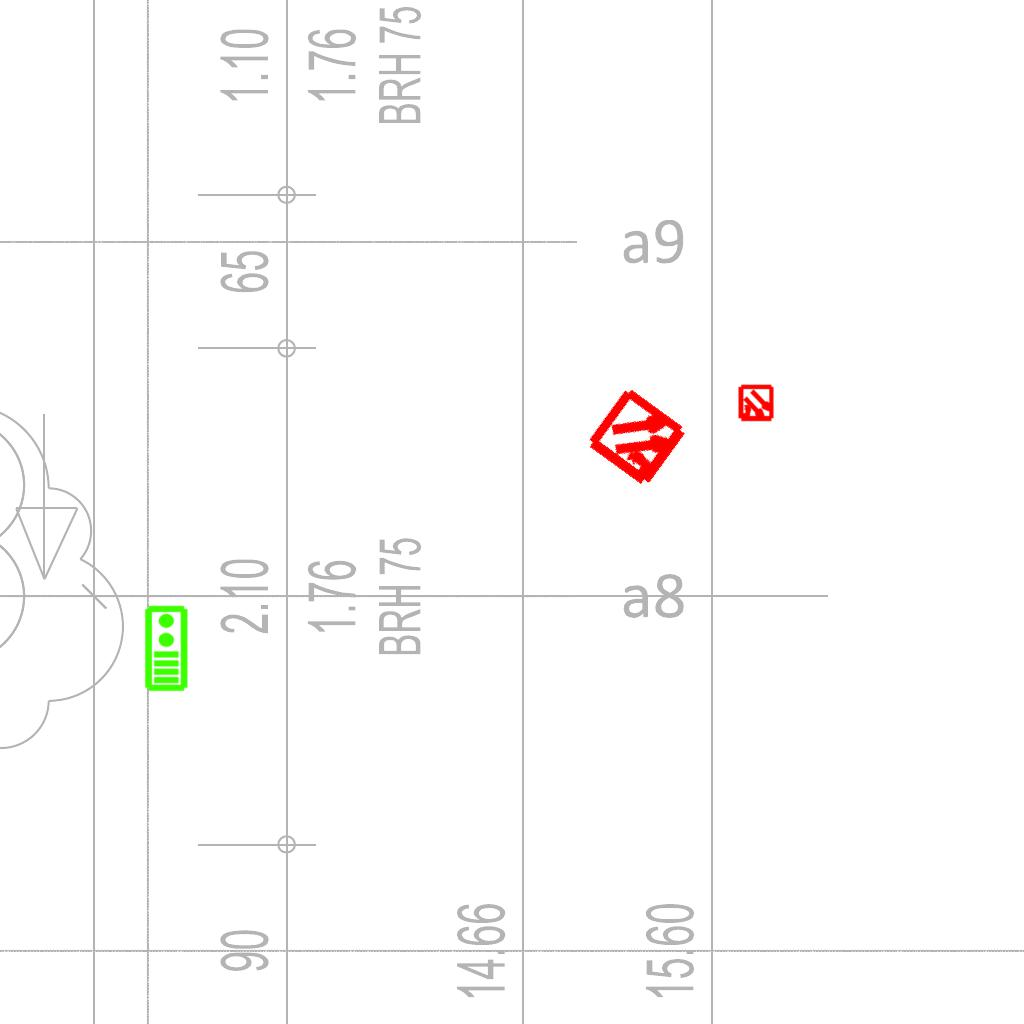Gegensprechanlage_mit_Video: (142, 604, 189, 692)
OT_Multisensormelder_(Kombination_RMO_WMD): (559, 359, 718, 518), (728, 376, 784, 432)
